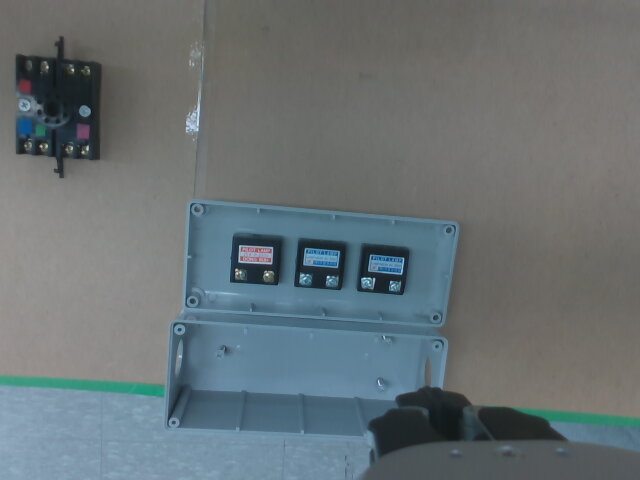L1(1): (234, 268, 247, 280)
L1(2): (262, 270, 273, 282)
L2(1): (299, 273, 311, 285)
L2(2): (326, 274, 339, 287)
L3(1): (361, 277, 374, 289)
L3(2): (389, 281, 401, 291)
